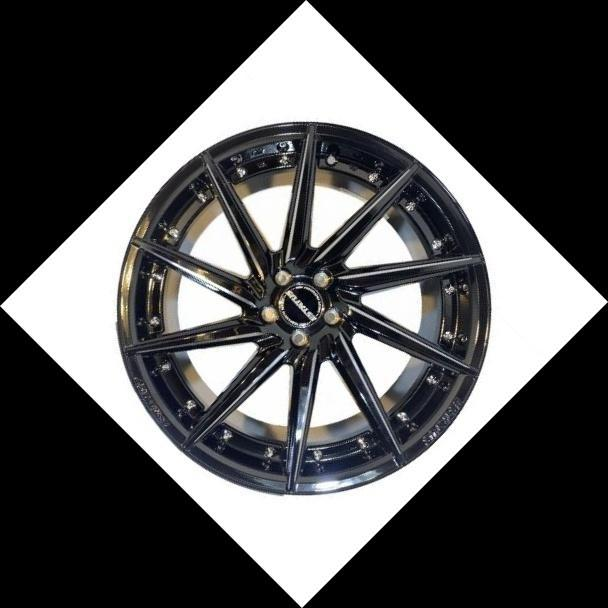hole: (253, 299, 283, 329), (307, 264, 337, 294), (317, 301, 347, 331), (284, 324, 313, 354), (267, 263, 296, 291)
